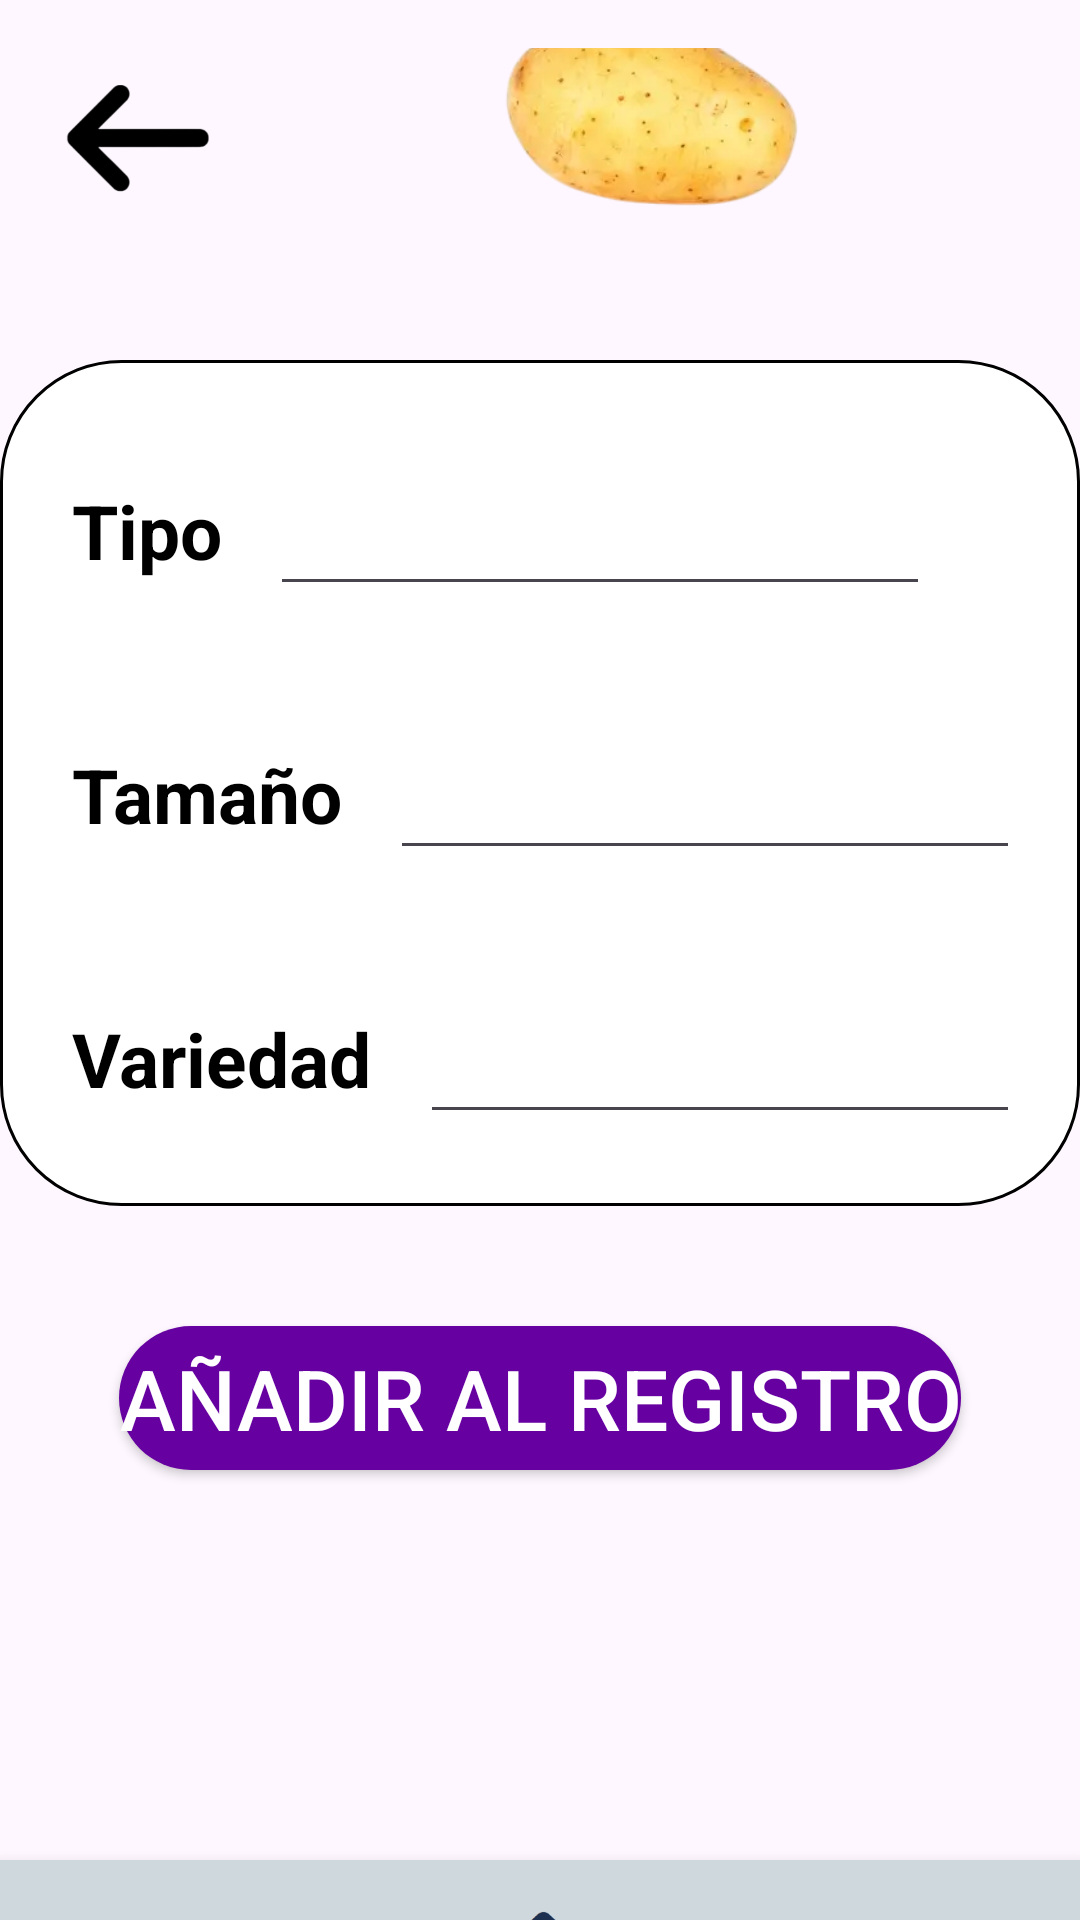

Named icons in this screenshot (1080 x 1920) and their bounding boxes, (x1=x1, y1=y1, x2=x2, y2=y2):
Regresar: (x1=67, y1=85, x2=209, y2=192)
